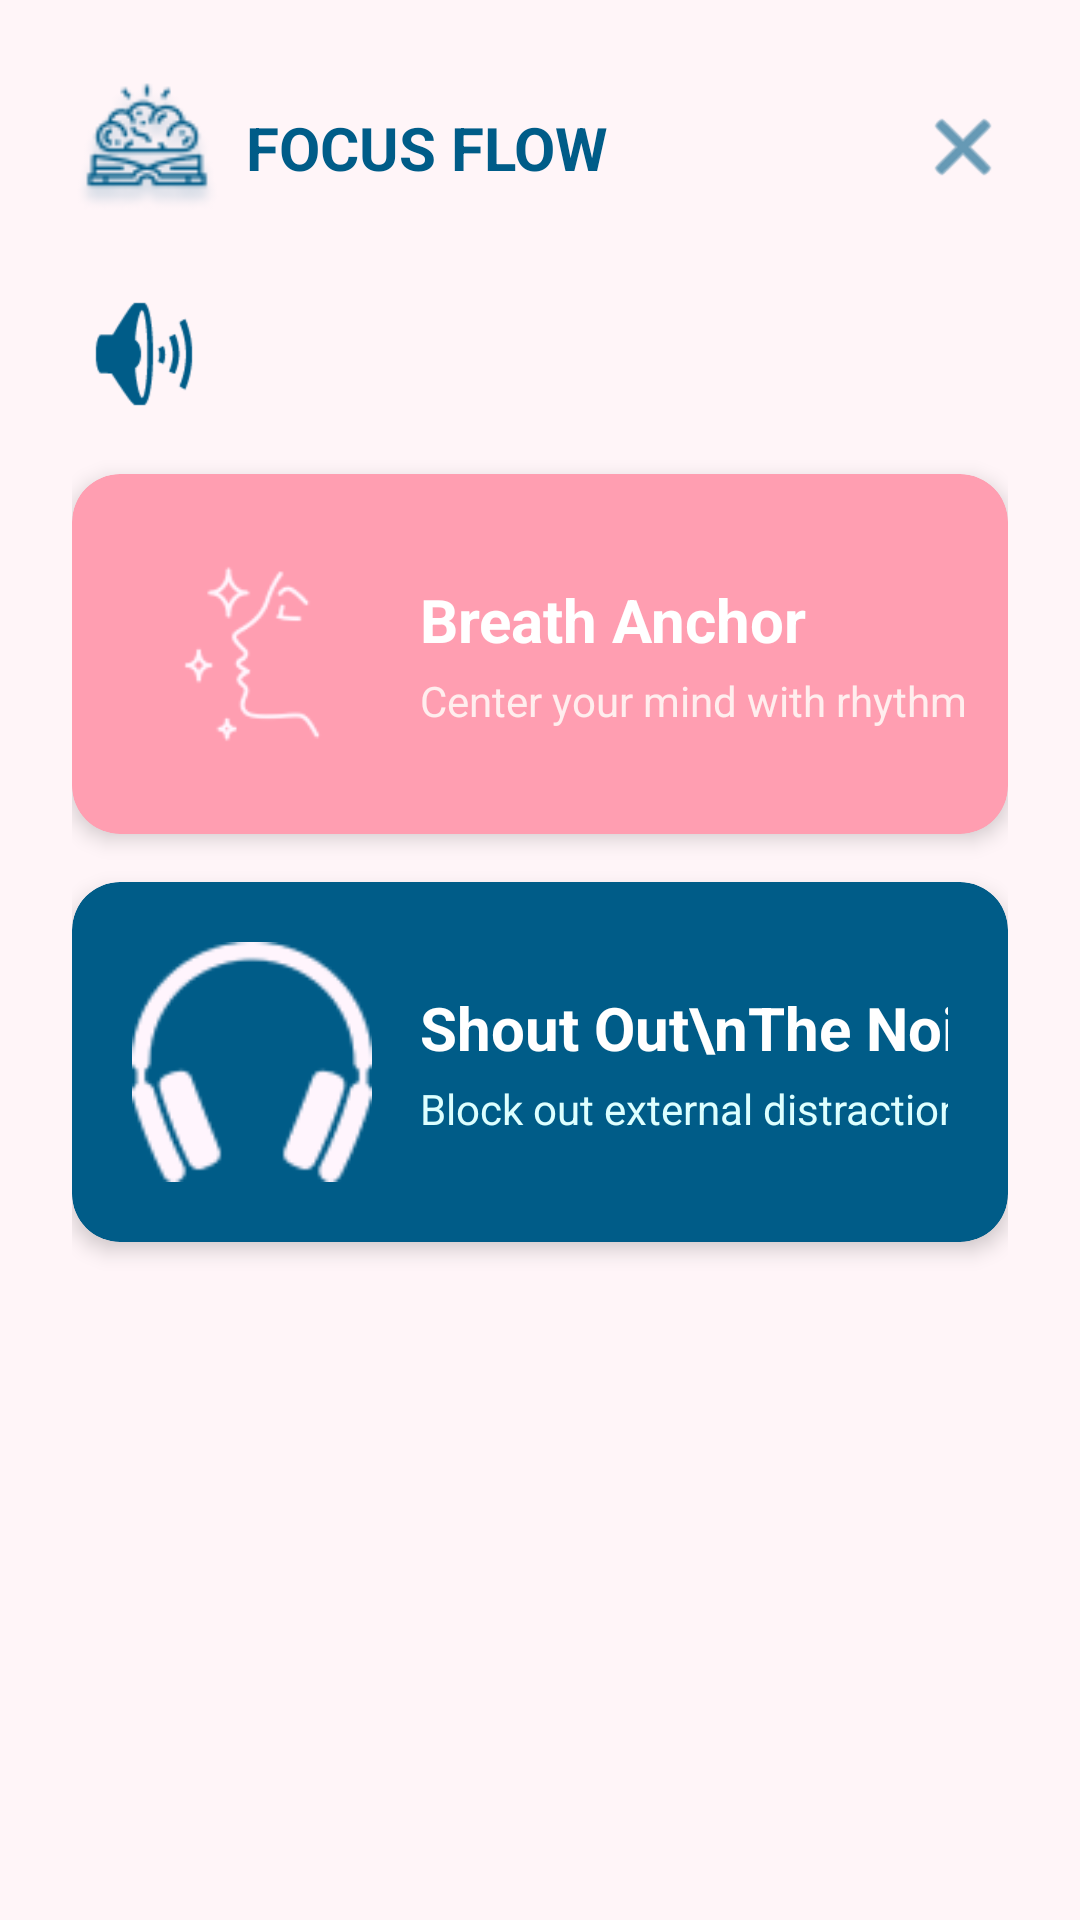

Screen size 1080x1920. Icon name, then its center in pixels as point (x, y):
close clear cancel: point (963, 147)
headphone: point (252, 1062)
muka: point (252, 654)
otak: point (147, 140)
Tombol Musik: point (144, 354)
